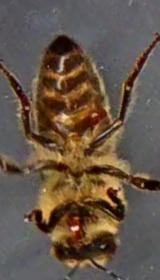varroa_mite: (84, 100, 110, 128)
